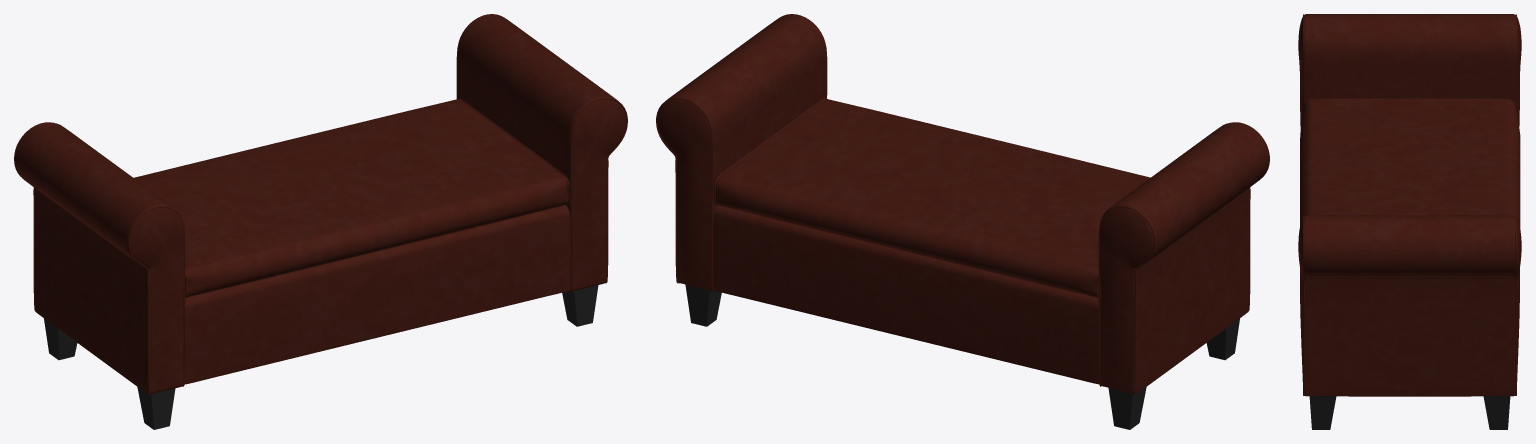
The model's file is abo-B07MQD2181.glb.
The picture shows the model from 3 angles, left to right: view 1: azimuth 30°, elevation 25°; view 2: azimuth 150°, elevation 25°; view 3: azimuth 270°, elevation 25°; orthographic projection. The views are drawn at different scales.
Bounding box in the file's own units: 1.26 × 0.547 × 0.521.
Materials: 1 (1 with a texture image).
